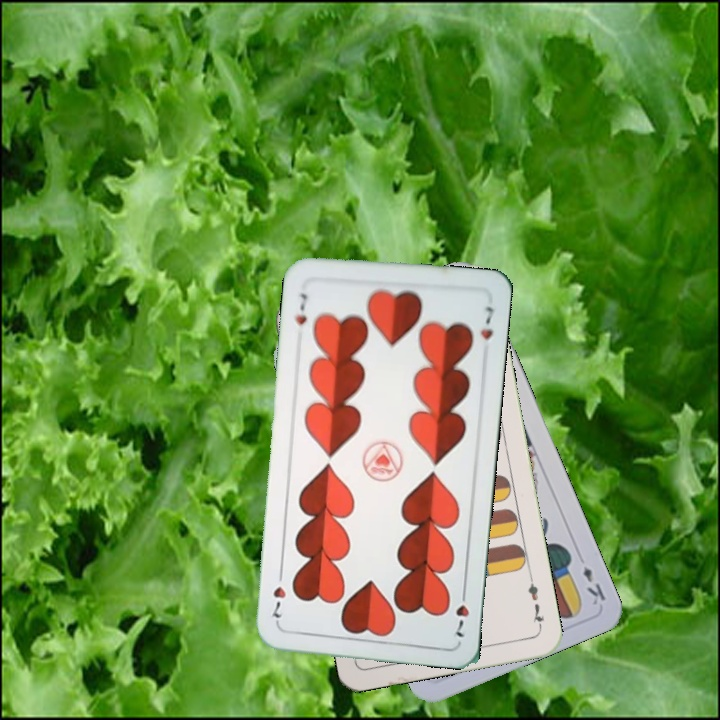E7: (523, 573, 547, 631)
EK: (578, 562, 608, 608)
H7: (449, 583, 472, 640), (291, 289, 310, 328)
